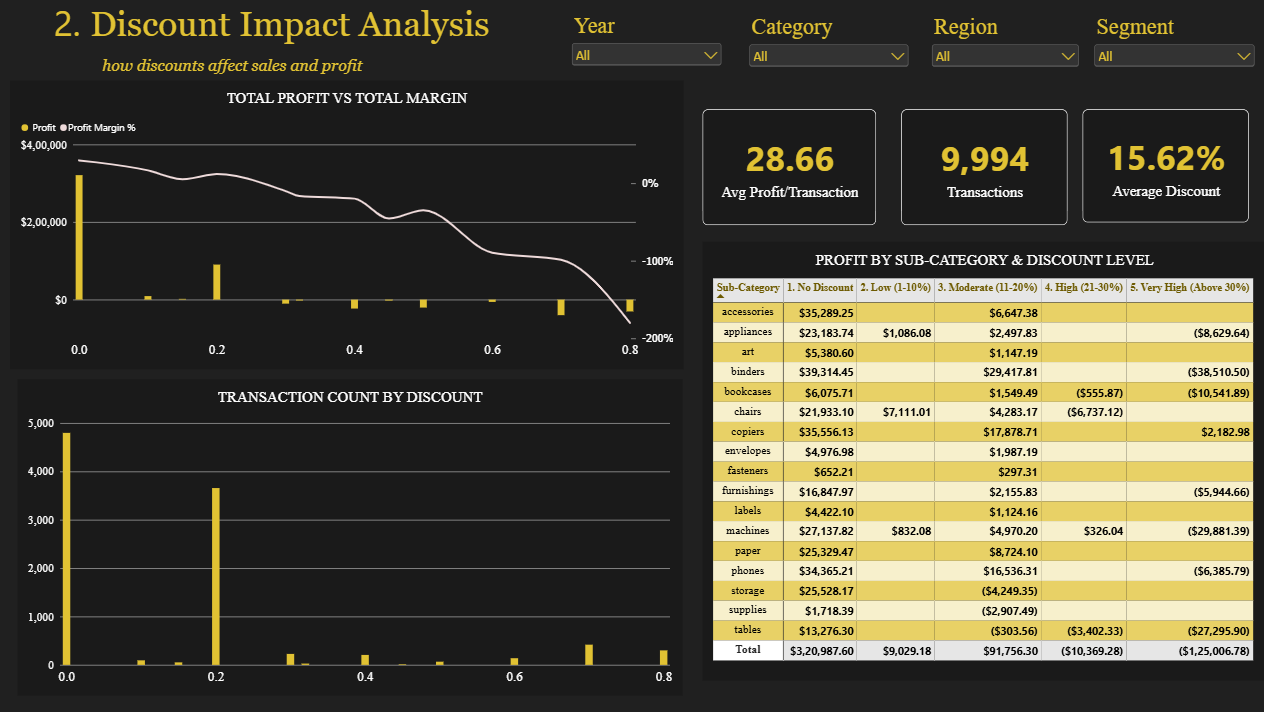

The dashboard page shown, as its layout file describes it:
{"tool":"powerbi","page":{"name":"Discount Analysis ","canvas":[1920,1080],"ordinal":1},"visuals":[{"type":"textbox","box":[88.7,0,745.6,175.5],"z":0},{"type":"lineClusteredColumnComboChart","title":"TOTAL PROFIT VS TOTAL MARGIN","fields":{"Category":["superstore_cleaned.Discount"],"Y":["Sum(superstore_cleaned.Profit)"],"Y2":["superstore_cleaned.Profit Margin %"]},"box":[21.7,124.9,1017,436.1],"z":1000},{"type":"clusteredColumnChart","title":"TRANSACTION COUNT BY DISCOUNT","fields":{"Category":["superstore_cleaned.Discount"],"Y":["CountNonNull(superstore_cleaned.Order ID)"]},"box":[34.4,575.5,1004.4,477.8],"z":2000},{"type":"pivotTable","title":"PROFIT BY SUB-CATEGORY & DISCOUNT LEVEL","fields":{"Columns":["superstore_cleaned.Discount Bucket"],"Rows":["superstore_cleaned.Sub-Category"],"Values":["Sum(superstore_cleaned.Profit)"]},"box":[1067.7,367.4,852.4,662.3],"z":3000},{"type":"cardVisual","fields":{"Data":["superstore_cleaned.Average Discount"]},"box":[1641.4,168.3,251.5,171.9],"z":4000},{"type":"cardVisual","fields":{"Data":["superstore_cleaned.Transaction card"]},"box":[1368.1,168.3,251.5,175.5],"z":5000},{"type":"cardVisual","fields":{"Data":["superstore_cleaned.Average Profit per Transaction"]},"box":[1067.7,168.3,262.4,175.5],"z":6000},{"type":"slicer","fields":{"Values":["superstore_cleaned.Order Date.Variation.Date Hierarchy.Year"]},"box":[866.8,23.5,235.3,88.7],"z":7000},{"type":"slicer","fields":{"Values":["superstore_cleaned.Category"]},"box":[1134.7,25.3,249.7,99.5],"z":8000},{"type":"slicer","fields":{"Values":["superstore_cleaned.Region"]},"box":[1409.7,25.3,231.6,88.7],"z":9000},{"type":"slicer","fields":{"Values":["superstore_cleaned.Segment"]},"box":[1654,25.3,251.5,88.7],"z":10000}]}

Visuals, with their boxes in screenshot pixels (x1, y1, x2, y2), scaled from the page's 1920x1080 canvas onto the 1264x712 screenshot:
textbox: bbox=(58, 0, 549, 116)
"TOTAL PROFIT VS TOTAL MARGIN" lineClusteredColumnComboChart: bbox=(14, 82, 684, 370)
"TRANSACTION COUNT BY DISCOUNT" clusteredColumnChart: bbox=(23, 379, 684, 694)
"PROFIT BY SUB-CATEGORY & DISCOUNT LEVEL" pivotTable: bbox=(703, 242, 1263, 679)
cardVisual - superstore_cleaned.Average Discount: bbox=(1081, 111, 1246, 224)
cardVisual - superstore_cleaned.Transaction card: bbox=(901, 111, 1066, 227)
cardVisual - superstore_cleaned.Average Profit per Transaction: bbox=(703, 111, 876, 227)
slicer - superstore_cleaned.Order Date.Variation.Date Hierarchy.Year: bbox=(571, 15, 726, 74)
slicer - superstore_cleaned.Category: bbox=(747, 17, 911, 82)
slicer - superstore_cleaned.Region: bbox=(928, 17, 1081, 75)
slicer - superstore_cleaned.Segment: bbox=(1089, 17, 1254, 75)
